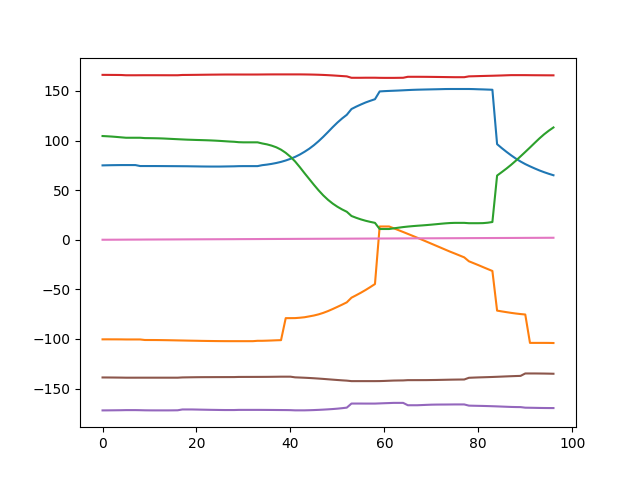Too_Fast_Down: (4, 1, 640, 480)
